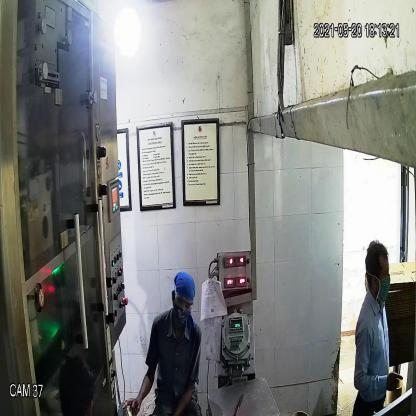goggles: (170, 290, 194, 317)
no_goggles: (368, 265, 392, 284)
